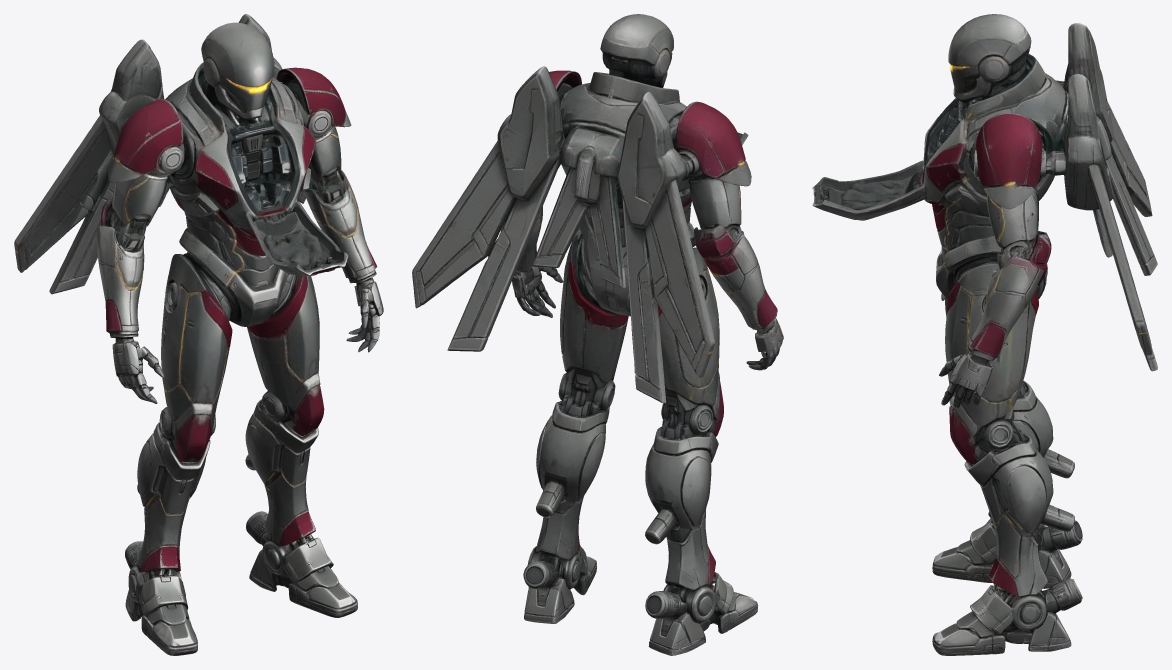
File: mech.glb
The picture shows the model from 3 angles, left to right: view 1: azimuth 30°, elevation 25°; view 2: azimuth 150°, elevation 25°; view 3: azimuth 270°, elevation 25°; orthographic projection.
Parts seen in each view (by area): view 1: Mesh_0; view 2: Mesh_0; view 3: Mesh_0.
Boxes of the visible parts, x1=… form: Mesh_0: x1=14, y1=14, x2=383, y2=655; Mesh_0: x1=412, y1=14, x2=783, y2=655; Mesh_0: x1=812, y1=14, x2=1157, y2=655.
Size of the model in its own units: 1 by 1.9 by 1.
Materials: 1 (1 with a texture image).
